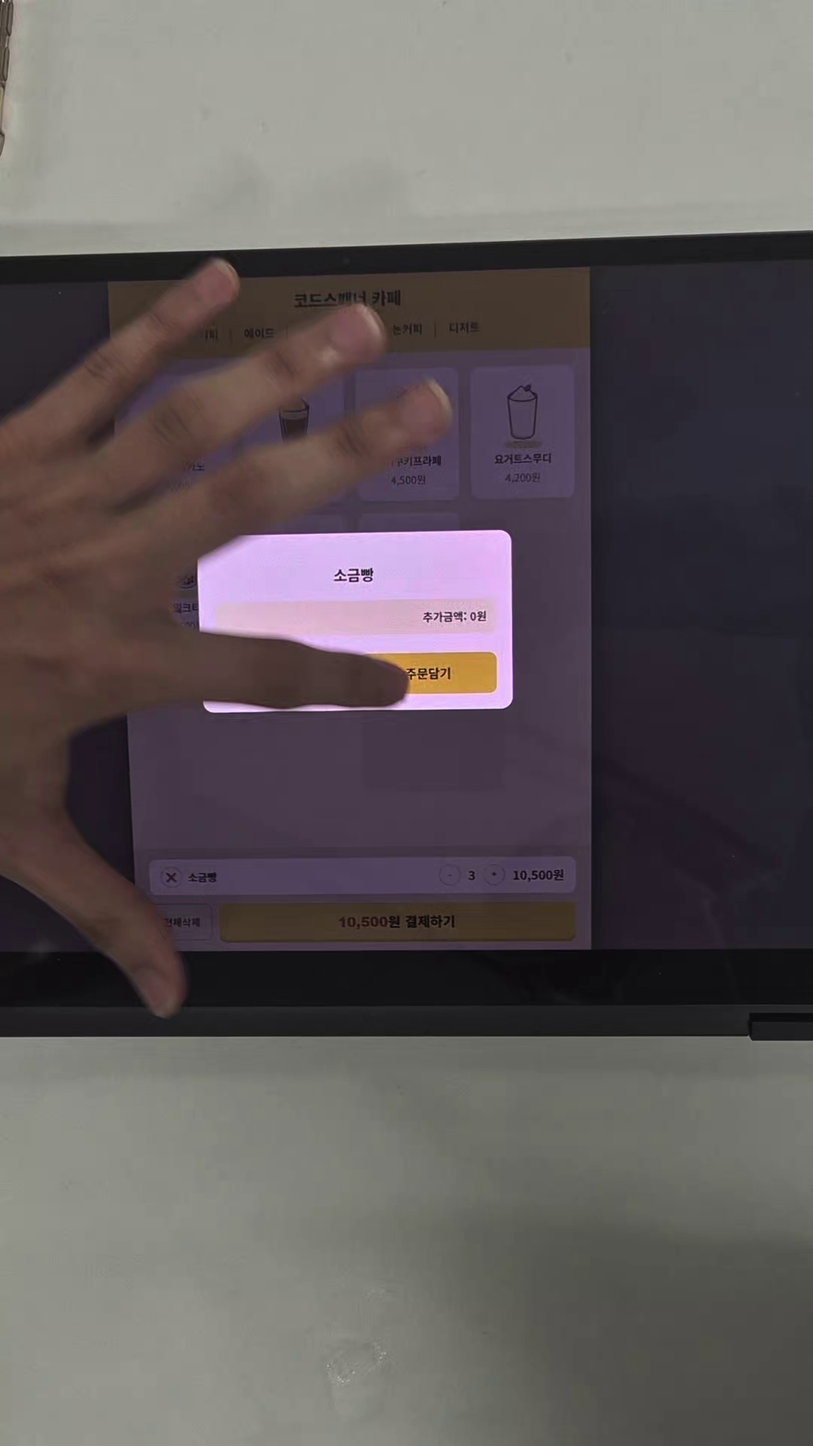action_button: (363, 649, 498, 698)
popup_modal: (196, 532, 516, 709)
